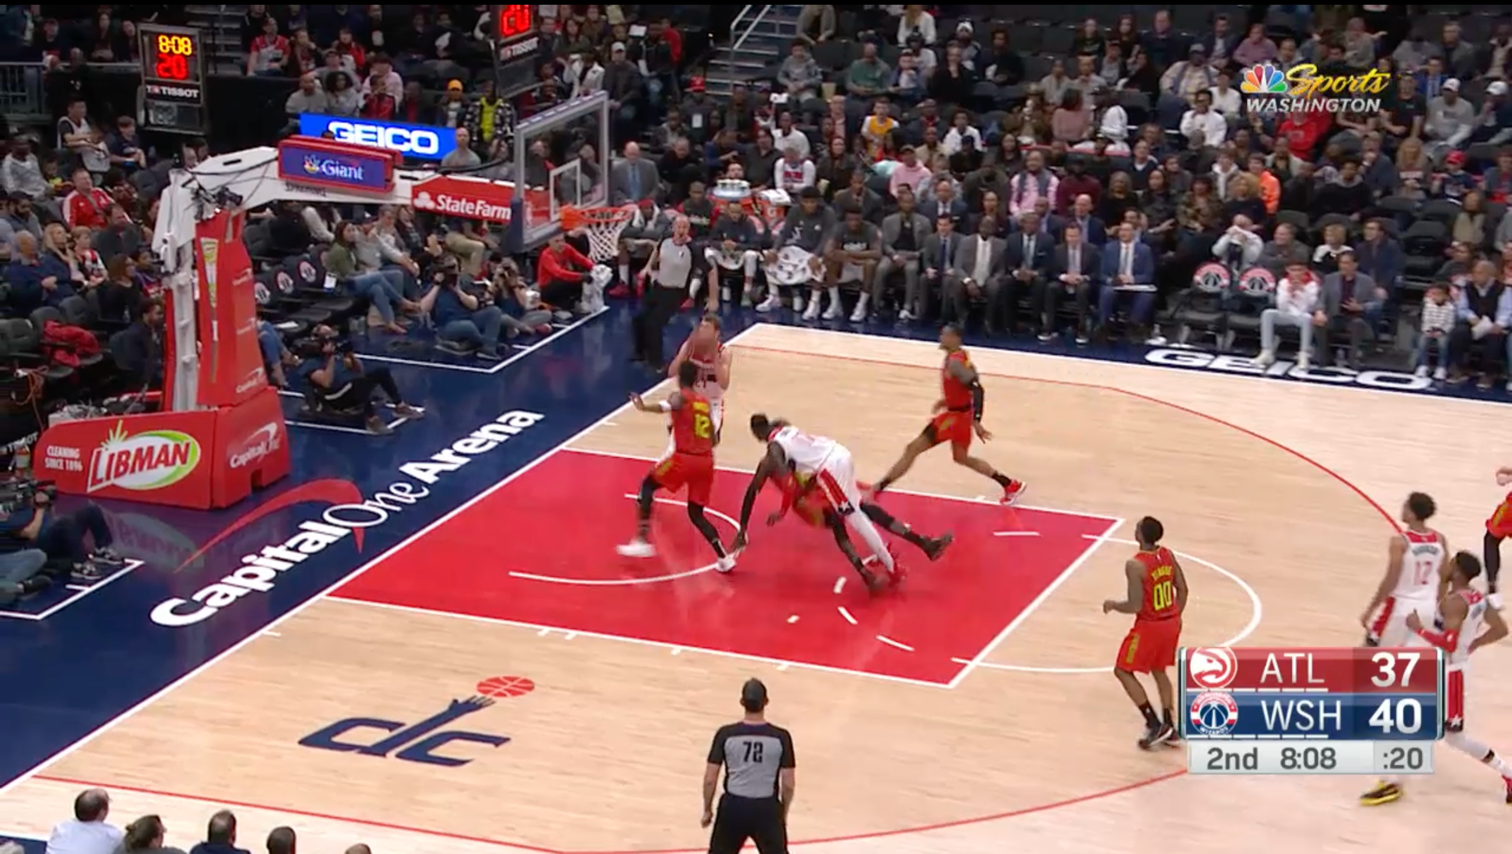Foul: (713, 452, 826, 675)
